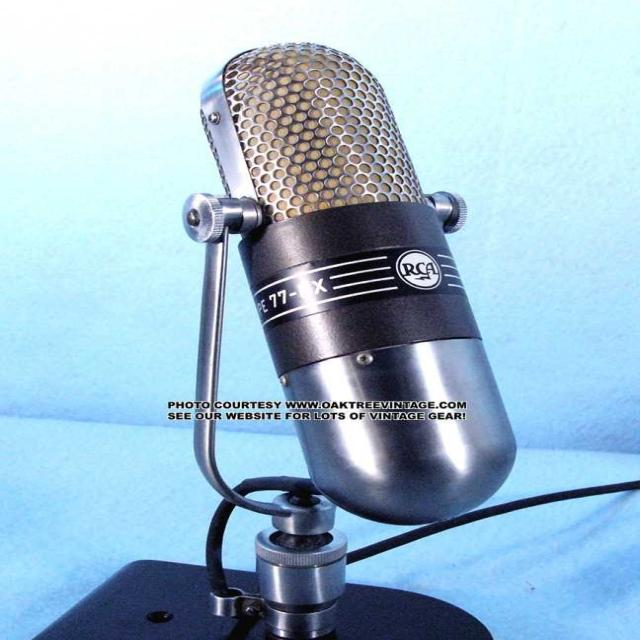microphone: (195, 45, 505, 523)
